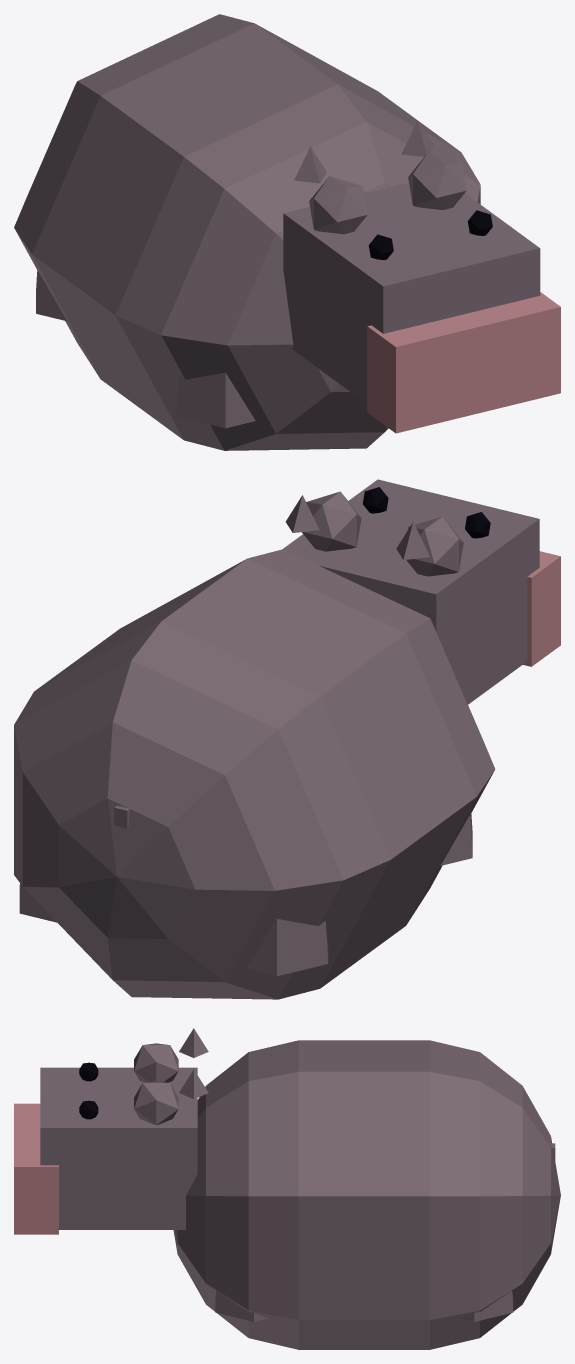
File: kudanil.glb
3 views of the same model, one above another, from view 1: azimuth 30°, elevation 25°; view 2: azimuth 150°, elevation 25°; view 3: azimuth 270°, elevation 25° (orthographic). The views are drawn at different scales.
Visible parts, largest first — view 1: kbs_kudanil, object 2; view 2: kbs_kudanil, object 2; view 3: kbs_kudanil, object 2.
Part boxes in pixels (left/top/right/bottom): kbs_kudanil: left=14, top=14, right=480, bottom=450; object 2: left=283, top=120, right=560, bottom=433; kbs_kudanil: left=14, top=549, right=495, bottom=999; object 2: left=283, top=479, right=560, bottom=704; kbs_kudanil: left=173, top=1040, right=560, bottom=1349; object 2: left=14, top=1028, right=208, bottom=1234.
Size of the model in its own units: 1.49 by 1.5 by 2.6.
